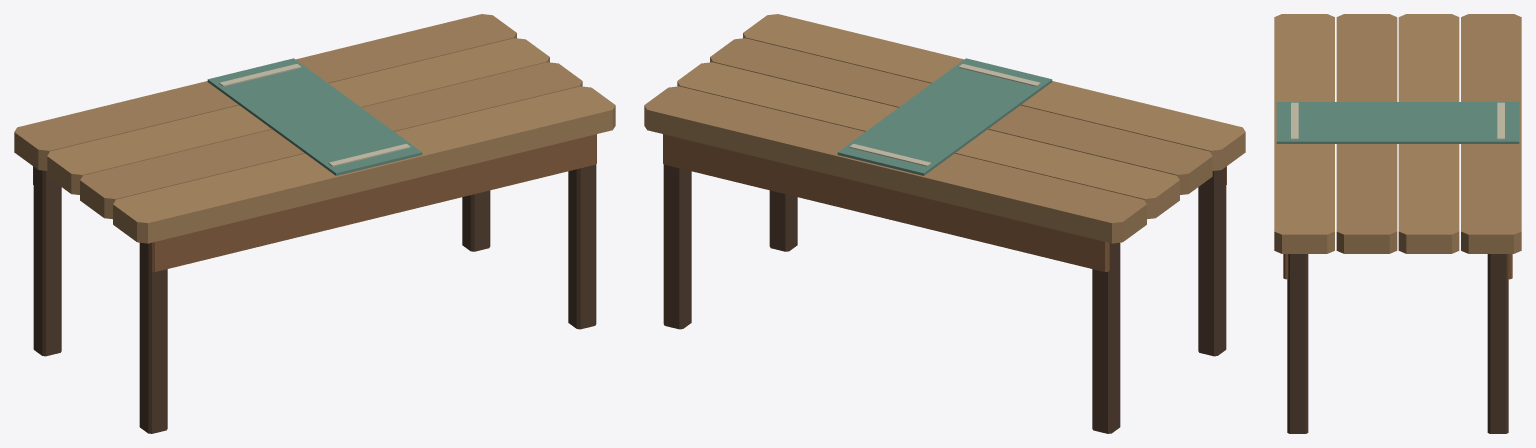
File: table_dining.glb
3 renders of one model, left to right at view 1: azimuth 30°, elevation 25°; view 2: azimuth 150°, elevation 25°; view 3: azimuth 270°, elevation 25°, orthographic. The views are drawn at different scales.
Parts seen in each view (by area): view 1: geometry; view 2: geometry; view 3: geometry.
Boxes of the visible parts, x1,y1,x2,y2 form: geometry: [14, 14, 615, 433]; geometry: [644, 14, 1245, 433]; geometry: [1274, 14, 1521, 433].
Size of the model in its own units: 1.72 by 0.7635 by 0.815.
